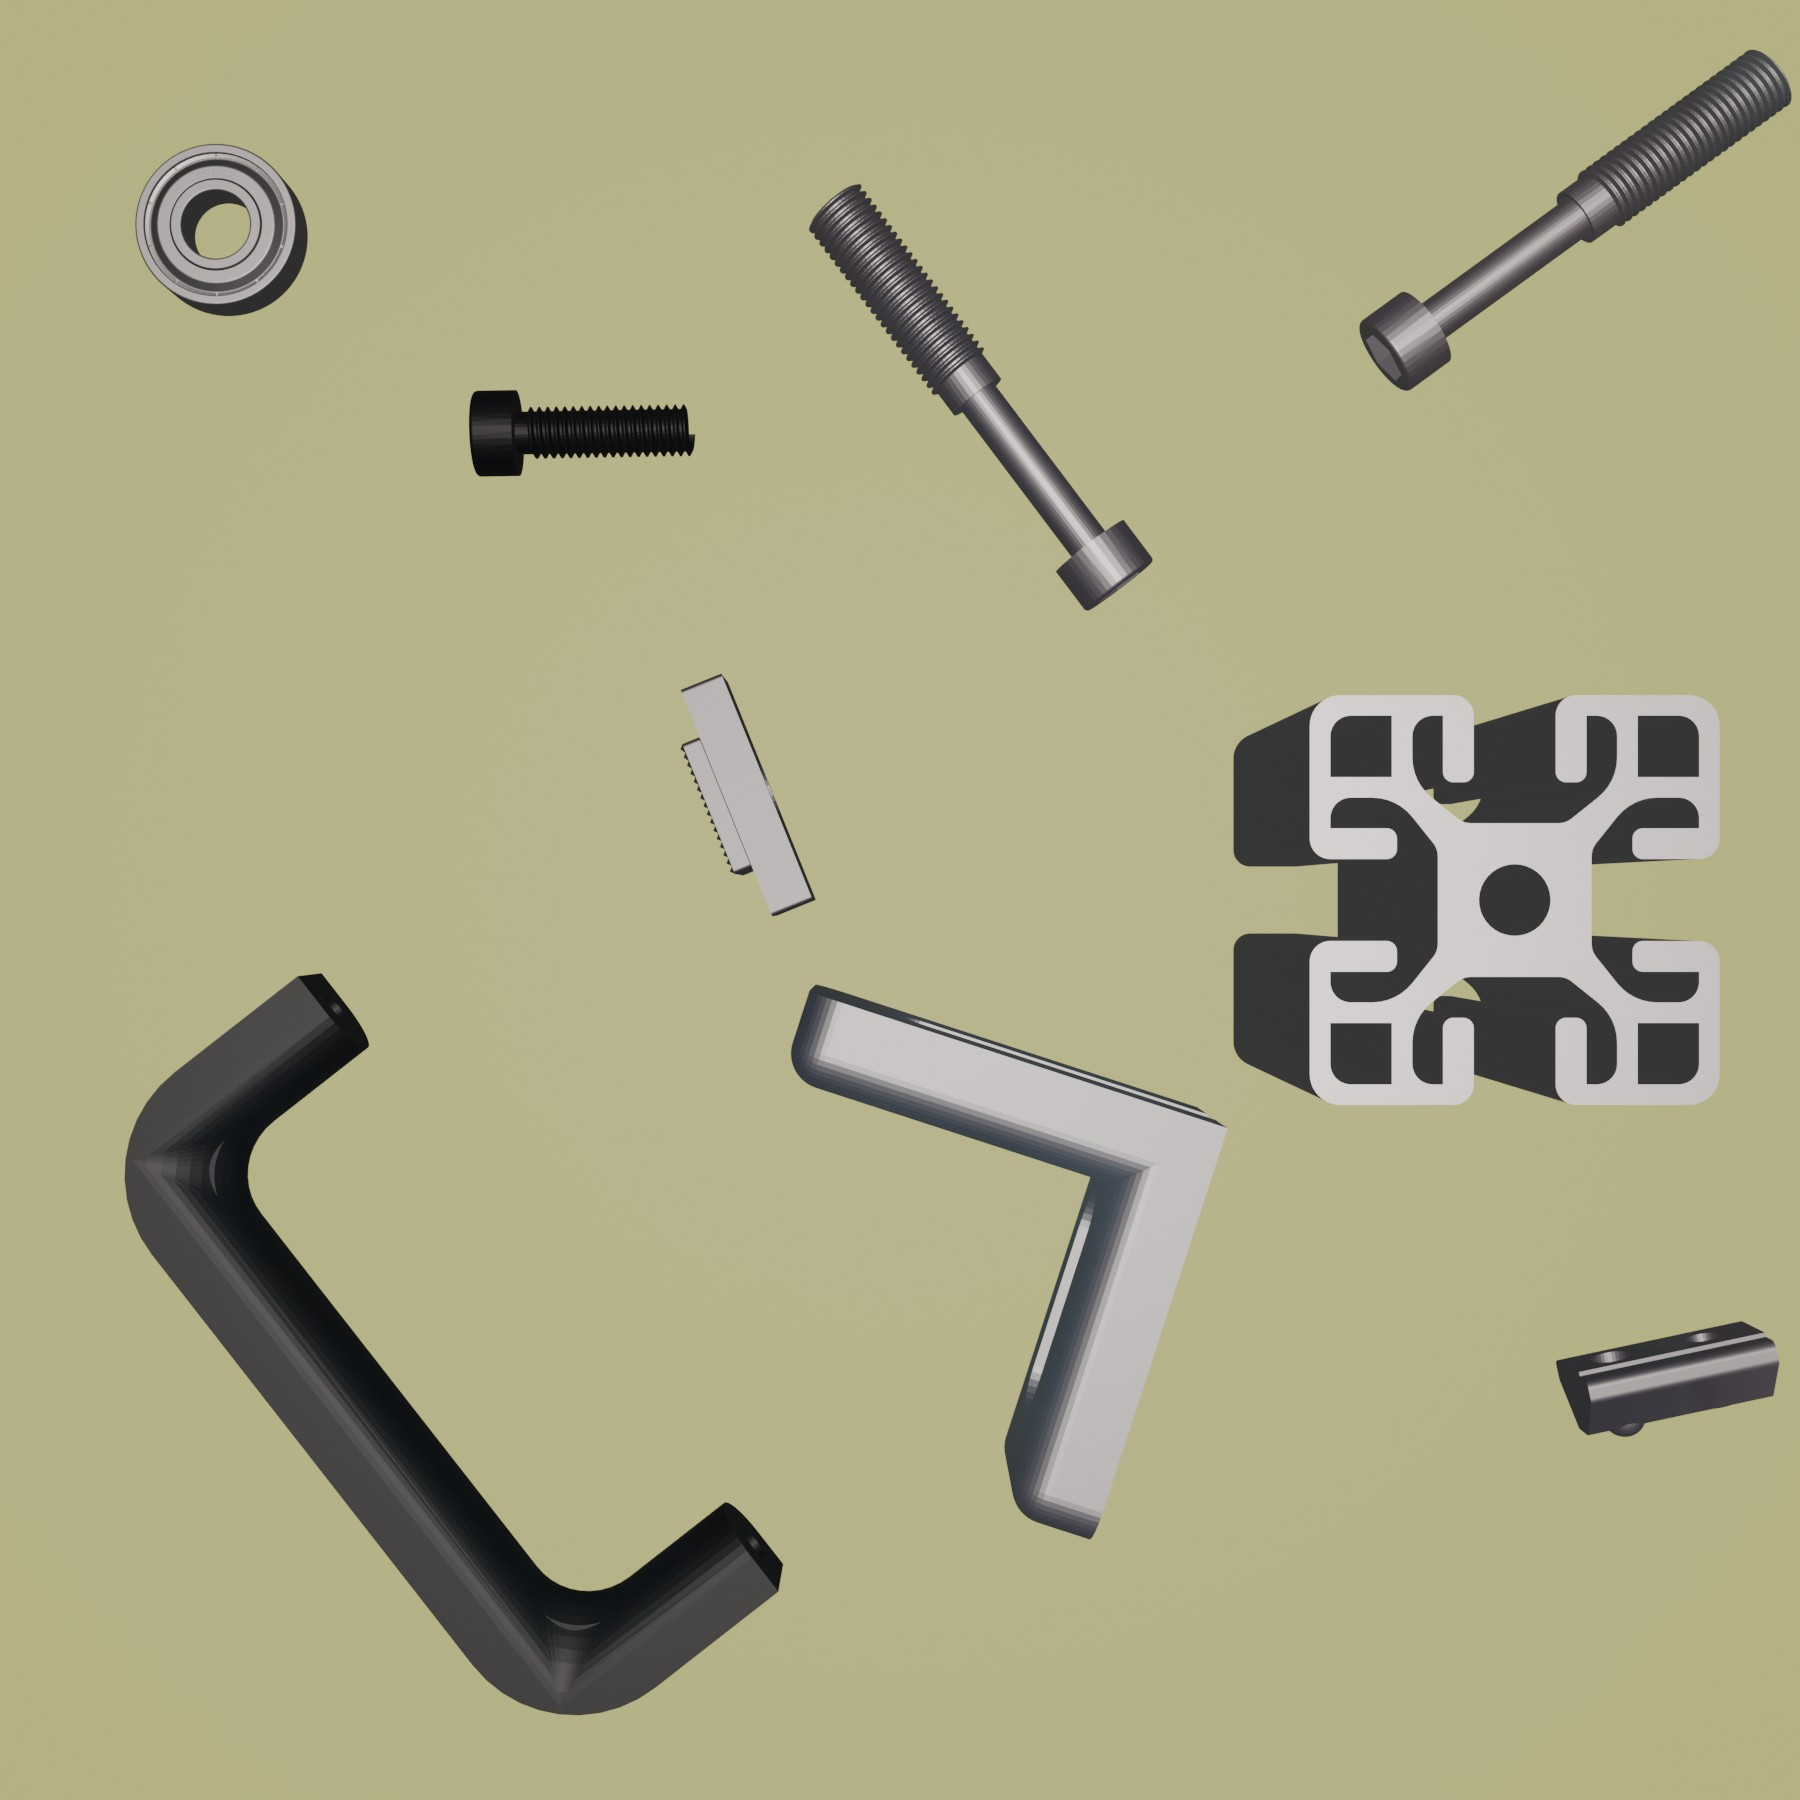Aluminium Extension: (1231, 692, 1721, 1111)
Ball Bearing: (132, 142, 312, 318)
Multiwinkel: (790, 981, 1230, 1543)
Pull Handle: (120, 969, 785, 1718)
Shoulder Socket Head Cap Screw: (806, 181, 1155, 613), (1358, 46, 1793, 392)
Socket Head Cap Screw: (466, 386, 697, 480)
T Nut Square: (677, 669, 818, 921)
T Spring Nut: (1554, 1319, 1782, 1441)
